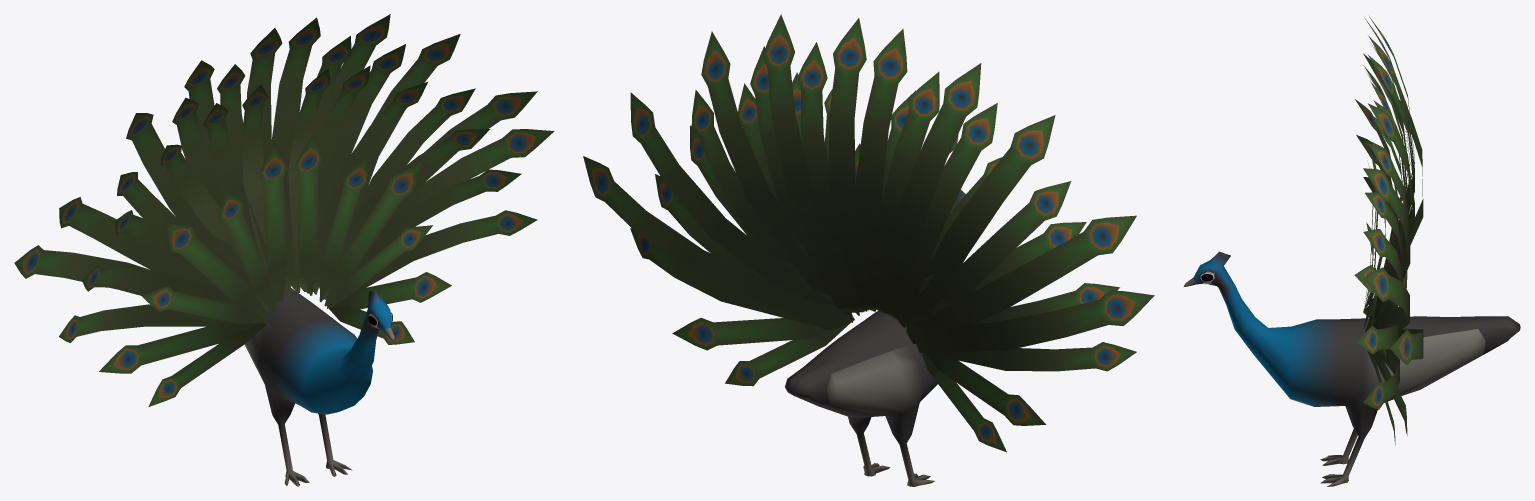
3 renders of one model, left to right at view 1: azimuth 30°, elevation 25°; view 2: azimuth 150°, elevation 25°; view 3: azimuth 270°, elevation 25°, orthographic. The views are drawn at different scales.
Visible parts, largest first — view 1: base.089; view 2: base.089; view 3: base.089.
Boxes of the visible parts, <box> form: base.089: <box>14,14,554,486</box>; base.089: <box>583,14,1154,486</box>; base.089: <box>1183,16,1520,486</box>.
Bounding box in the file's own units: 0.5 × 0.3899 × 0.2798.
